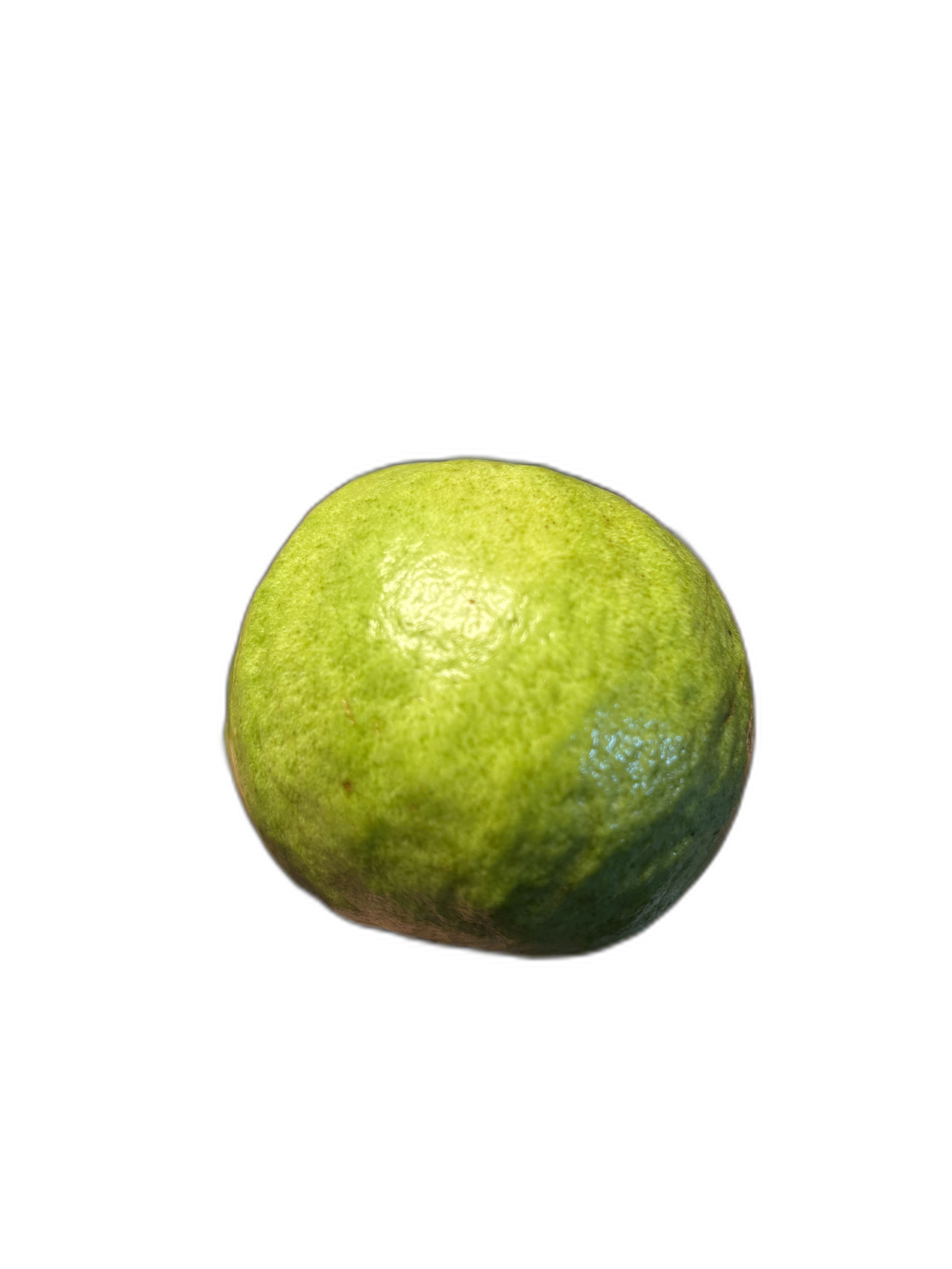guava: (155, 110, 892, 1242)
